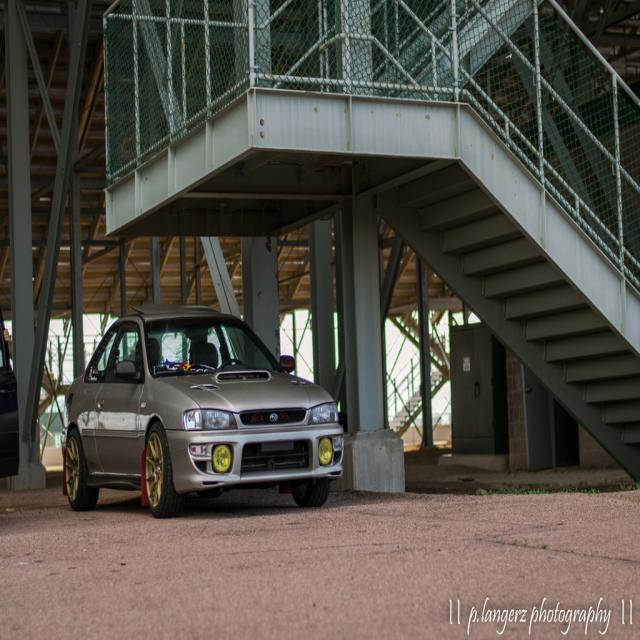car: (57, 303, 350, 517)
